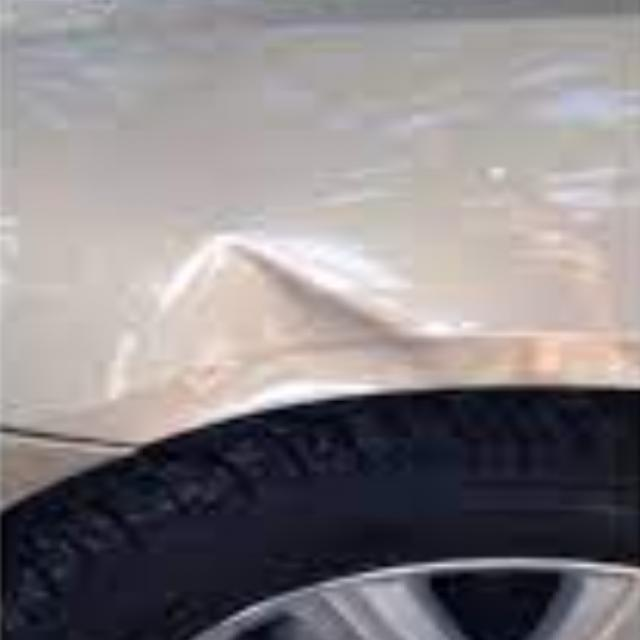dents: (98, 232, 444, 424)
